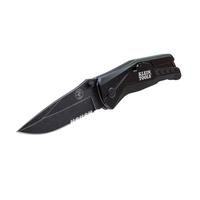knife: (12, 52, 184, 140)
